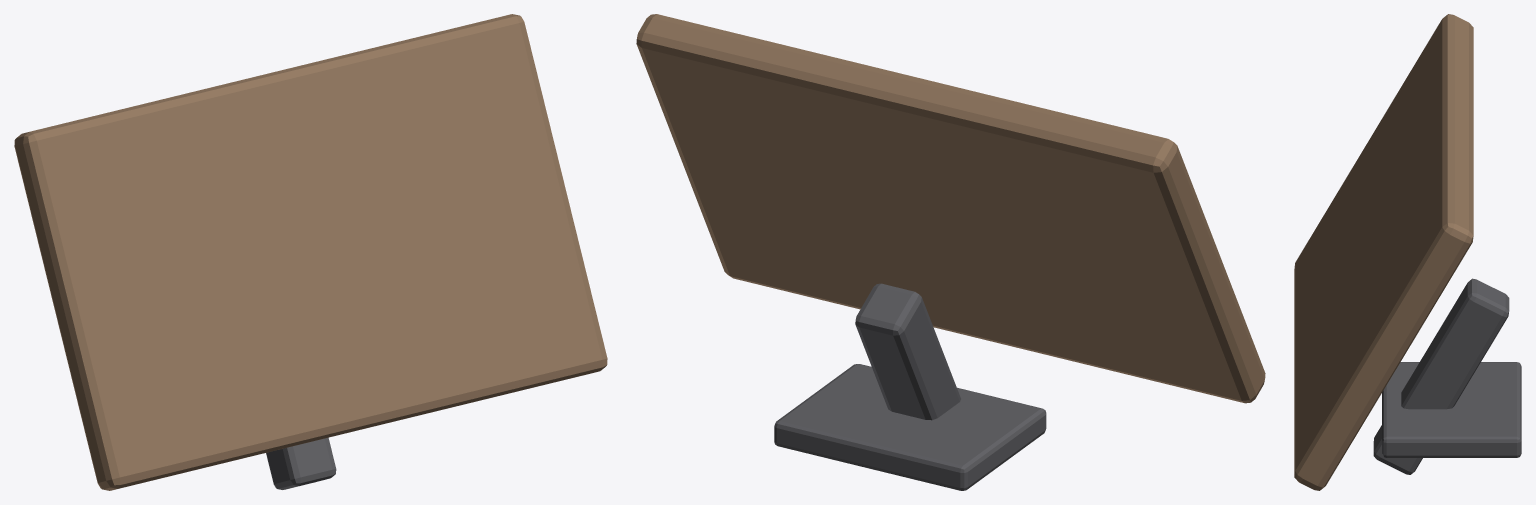
3 renders of one model, left to right at view 1: azimuth 30°, elevation 25°; view 2: azimuth 150°, elevation 25°; view 3: azimuth 270°, elevation 25°, orthographic. The views are drawn at different scales.
Visible parts, largest first — view 1: exhibitLabel; view 2: exhibitLabel; view 3: exhibitLabel.
Boxes of the visible parts, <box> form: exhibitLabel: <box>14,14,607,490</box>; exhibitLabel: <box>636,14,1265,490</box>; exhibitLabel: <box>1294,14,1521,490</box>.
Bounding box in the file's own units: 0.22 × 0.1656 × 0.0977.
